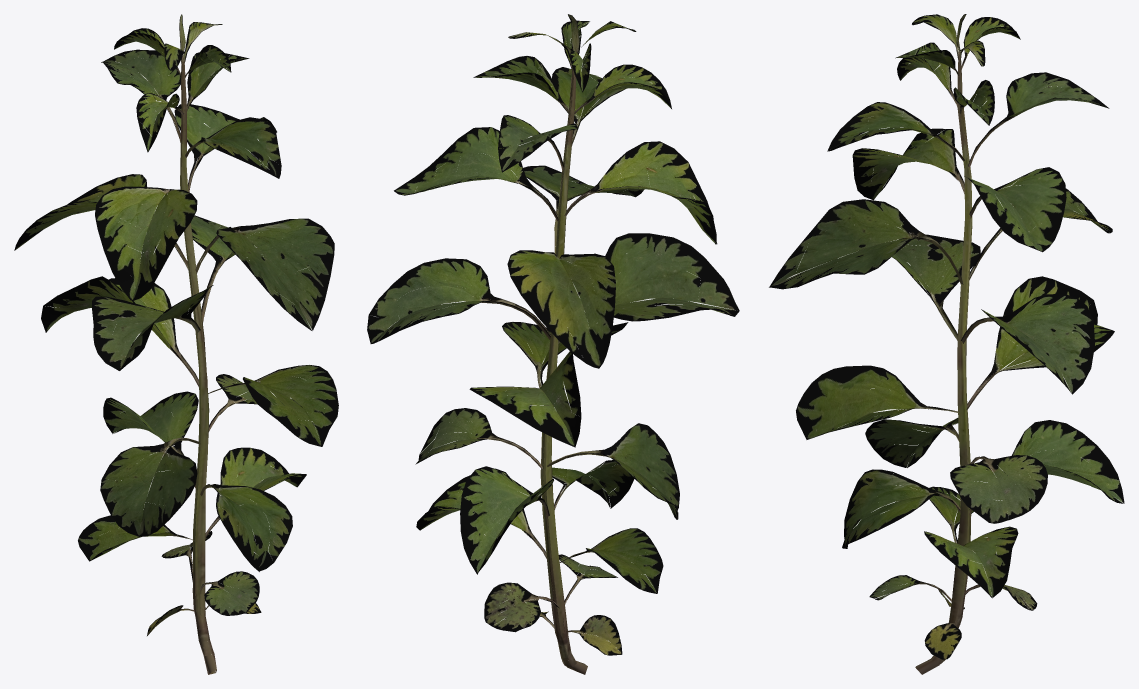
Rendered from nettle_plant_5.gltf.
3 views of the same model, side by side, from view 1: azimuth 30°, elevation 25°; view 2: azimuth 150°, elevation 25°; view 3: azimuth 270°, elevation 25° (orthographic). The views are drawn at different scales.
Parts seen in each view (by area): view 1: nettle_plant_tall_b_LOD0; view 2: nettle_plant_tall_b_LOD0; view 3: nettle_plant_tall_b_LOD0.
Boxes of the visible parts, x1=… form: nettle_plant_tall_b_LOD0: x1=14, y1=14, x2=338, y2=674; nettle_plant_tall_b_LOD0: x1=367, y1=14, x2=739, y2=674; nettle_plant_tall_b_LOD0: x1=769, y1=14, x2=1124, y2=674.
Bounding box in the file's own units: 0.0823 × 0.1925 × 0.0949.
Materials: 1 (1 with a texture image).
